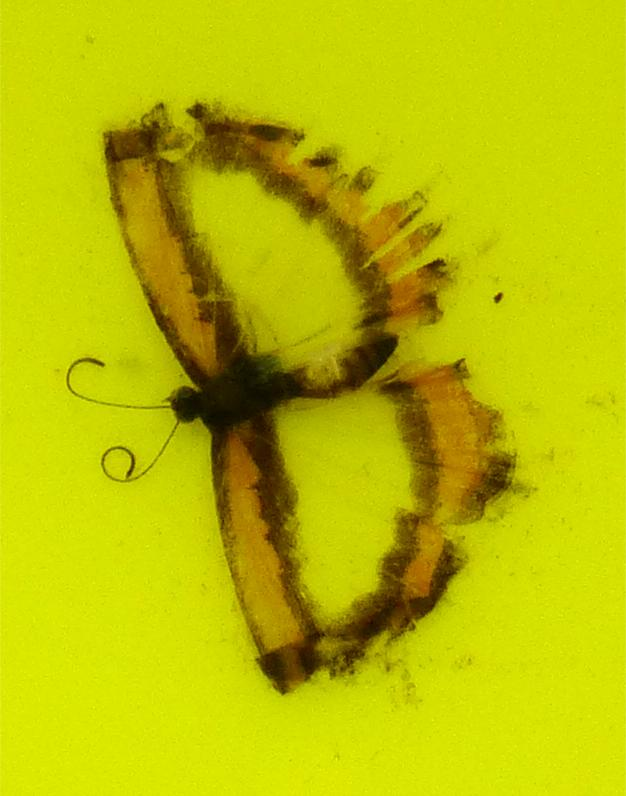Lepidoptera: (100, 100, 526, 696)
